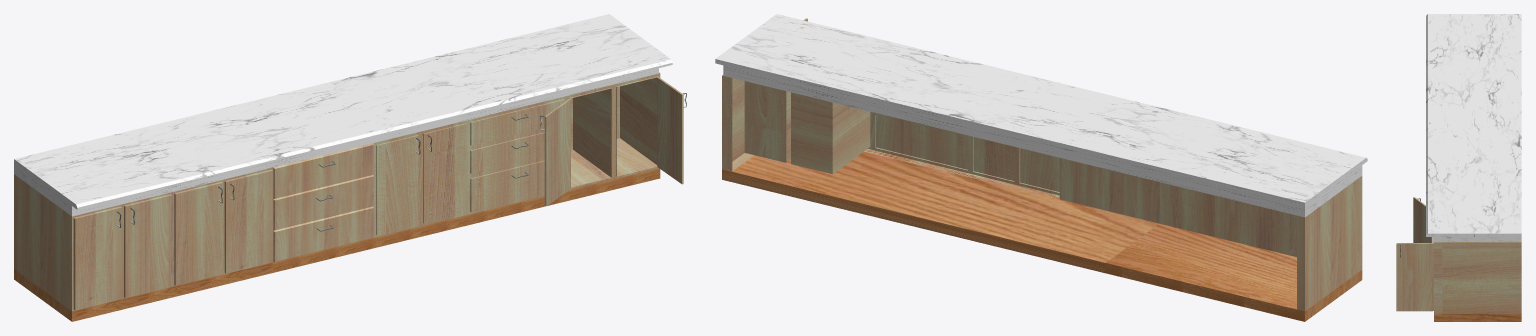
File: Lab2.fbx
3 renders of one model, left to right at view 1: azimuth 30°, elevation 25°; view 2: azimuth 150°, elevation 25°; view 3: azimuth 270°, elevation 25°, orthographic. The views are drawn at different scales.
Parts seen in each view (by area): view 1: Table Cover, Cabinet2, Cabinet1, Box001, Table Base2, Top, Table base1, Cabinet2Door1, Cabinet2Door2; view 2: Table Cover, Table Base2, Cabinet2, Cabinet1, Table base1, Top, Box001; view 3: Table Cover, Cabinet2, Cabinet2Door2, Table Base2, Cabinet2Door1, Top.
Part boxes in pixels (left/top/right/bottom): Table Cover: left=14, top=14, right=672, bottom=209; Cabinet2: left=373, top=72, right=660, bottom=237; Cabinet1: left=14, top=167, right=273, bottom=311; Box001: left=273, top=143, right=373, bottom=262; Table Base2: left=273, top=168, right=660, bottom=272; Top: left=14, top=68, right=658, bottom=216; Table base1: left=14, top=262, right=273, bottom=321; Cabinet2Door1: left=544, top=99, right=570, bottom=206; Cabinet2Door2: left=657, top=77, right=683, bottom=184; Table Cover: left=715, top=14, right=1367, bottom=206; Table Base2: left=722, top=149, right=1158, bottom=273; Cabinet2: left=722, top=75, right=1059, bottom=198; Cabinet1: left=1159, top=176, right=1362, bottom=311; Table base1: left=1105, top=223, right=1362, bottom=321; Top: left=723, top=65, right=1362, bottom=217; Box001: left=1059, top=158, right=1159, bottom=223; Table Cover: left=1426, top=14, right=1521, bottom=236; Cabinet2: left=1433, top=237, right=1521, bottom=313; Cabinet2Door2: left=1396, top=243, right=1432, bottom=311; Table Base2: left=1434, top=314, right=1521, bottom=321; Cabinet2Door1: left=1413, top=197, right=1432, bottom=242; Top: left=1434, top=237, right=1521, bottom=241.
Bounding box in the file's own units: 178 × 34.32 × 42.95.
Materials: 4 (4 with a texture image).
